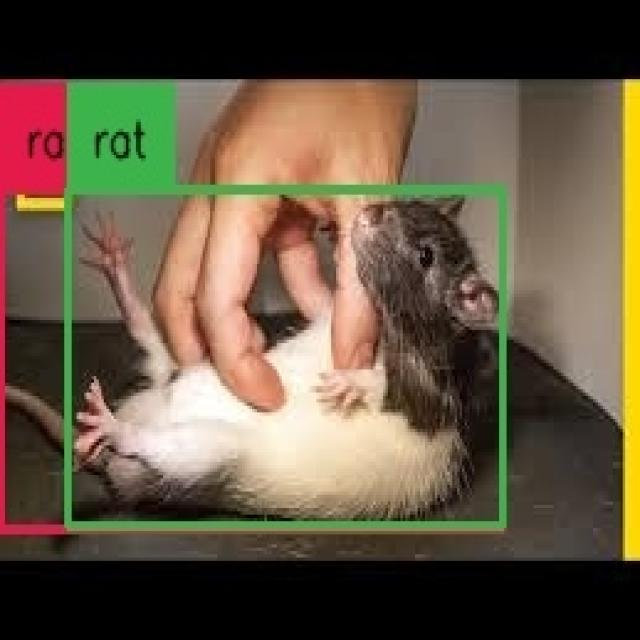rat: (0, 191, 504, 528), (68, 190, 503, 526)
